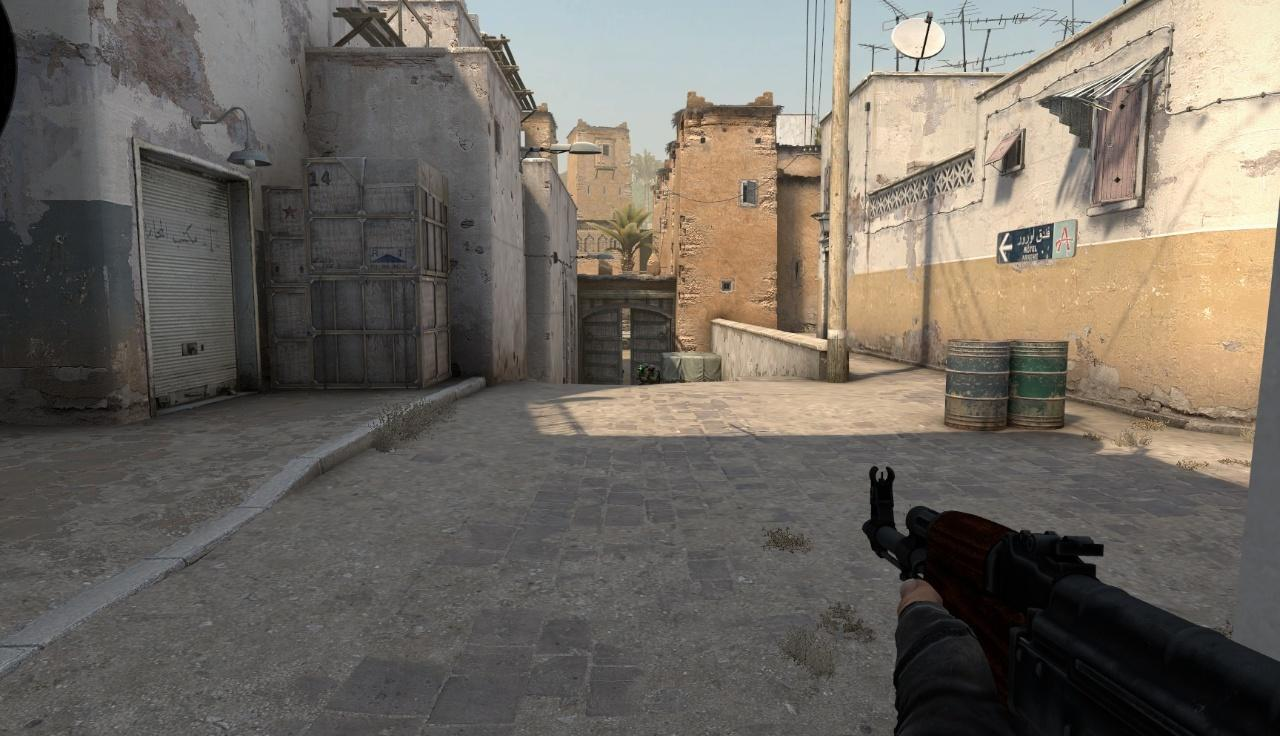ct: (647, 365, 659, 384), (637, 365, 647, 384)
cthead: (638, 365, 644, 371), (649, 365, 654, 372), (644, 363, 648, 369)
rifle: (862, 464, 1280, 736)
